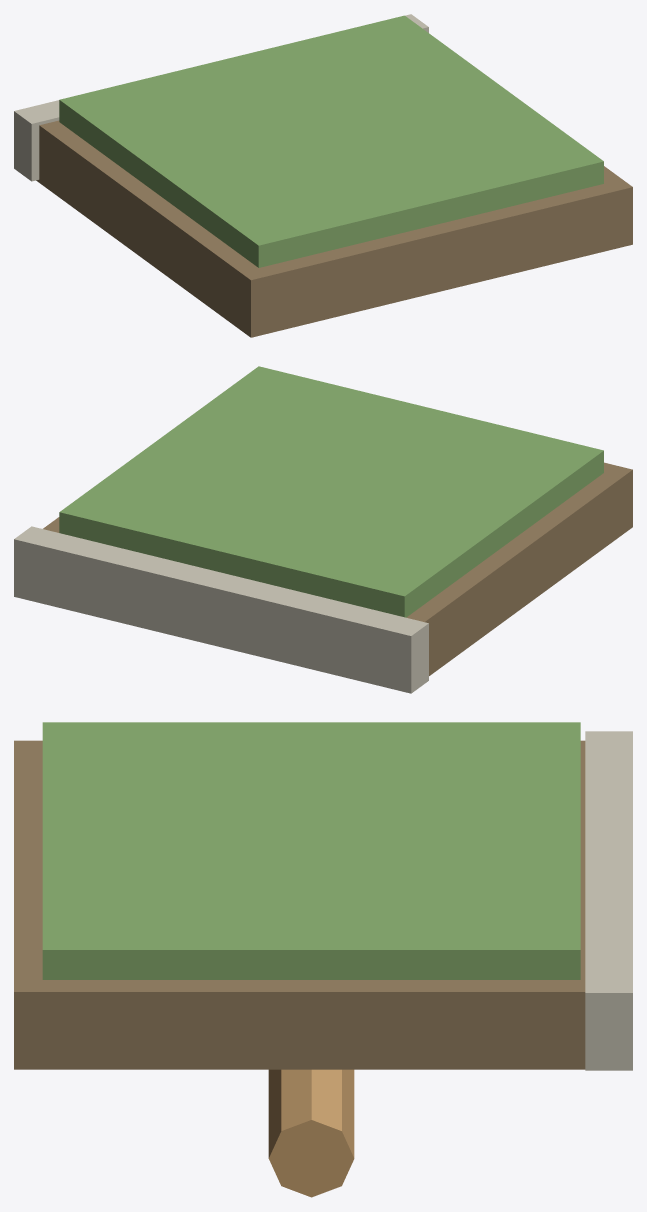
3 views of the same model, one above another, from view 1: azimuth 30°, elevation 25°; view 2: azimuth 150°, elevation 25°; view 3: azimuth 270°, elevation 25° (orthographic). The views are drawn at different scales.
Visible parts, largest first — view 1: grass, soil, border; view 2: grass, border, soil; view 3: grass, soil, border, log.
Part boxes in pixels (x1,y1,x2,y2): grass: [59, 15, 603, 267]; soil: [36, 120, 632, 337]; border: [14, 14, 428, 181]; grass: [59, 366, 603, 617]; border: [14, 526, 428, 693]; soil: [43, 462, 632, 675]; grass: [42, 722, 580, 979]; soil: [14, 740, 585, 1069]; border: [585, 731, 632, 1070]; log: [268, 1069, 354, 1197].
Bounding box in the file's own units: 1.3 × 0.56 × 1.3.
